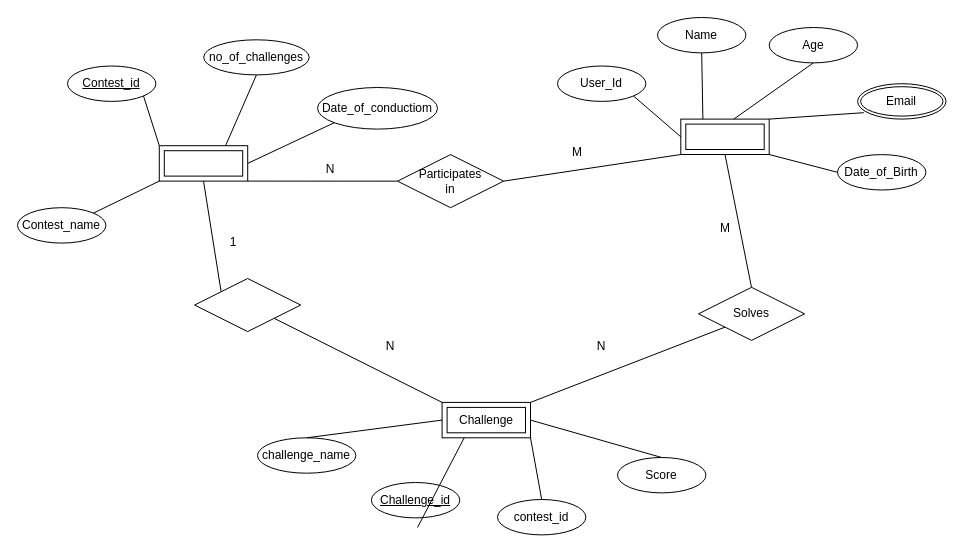
Some shapes in this 964 by 553 pixel diagram are drawn without their labels. Each missing label, with the centre of its shape:
"Contains /Belongs" goes at point 247,305.
"Contest" goes at point 203,163.
"User" goes at point 724,136.
